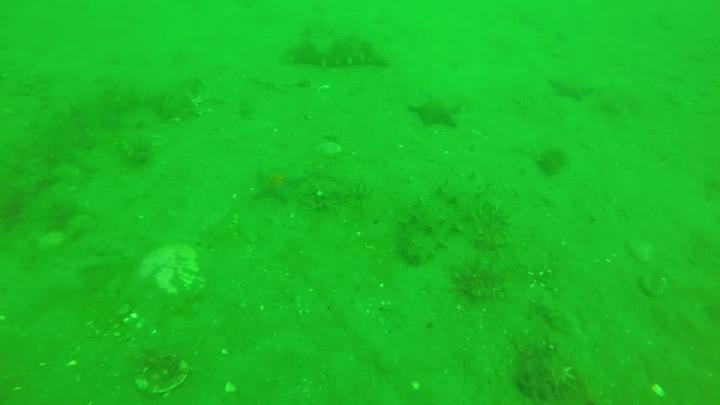holothurian: (393, 175, 493, 268), (82, 72, 202, 111), (283, 33, 392, 67)
scallop: (137, 248, 207, 302), (139, 359, 191, 398), (317, 141, 342, 161)
starfish: (409, 96, 464, 129), (256, 169, 307, 203), (549, 77, 594, 102)
